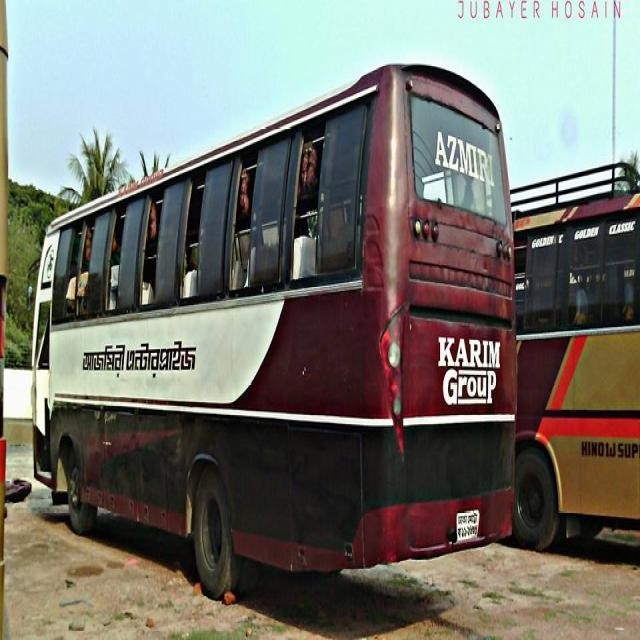bus: (30, 54, 518, 603)
